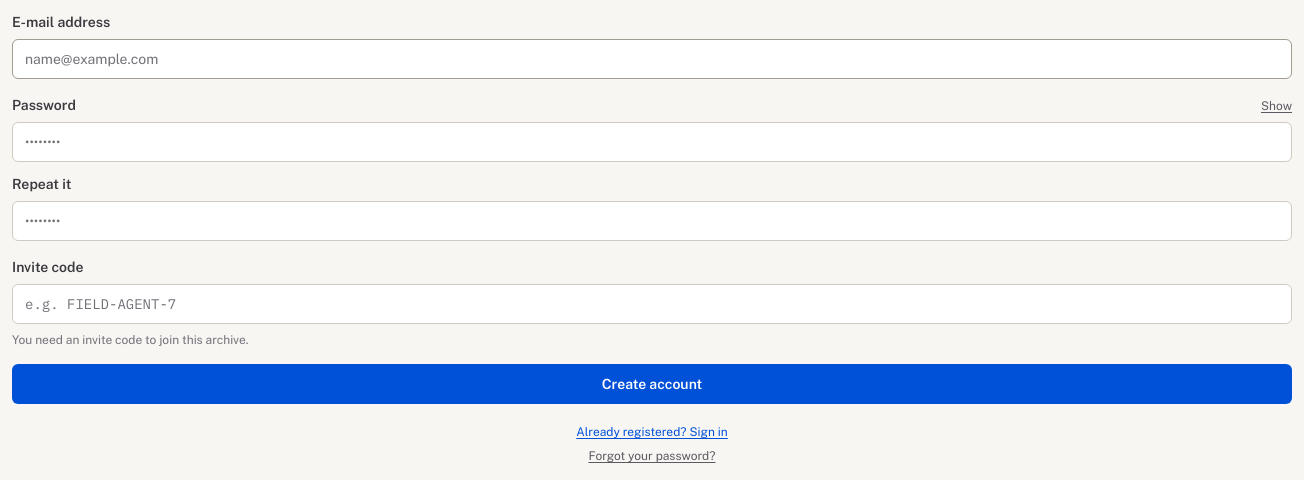
it: authentication and previews › stops asking twice once the password is on screen
This screenshot has width=1304, height=480.
Expected: the password field labelled "Repeat it" is shown, [12,201,1292,241]
Step 1. Click the button "Show" → {"x": 1276, "y": 106}, box [1261,98,1292,114]
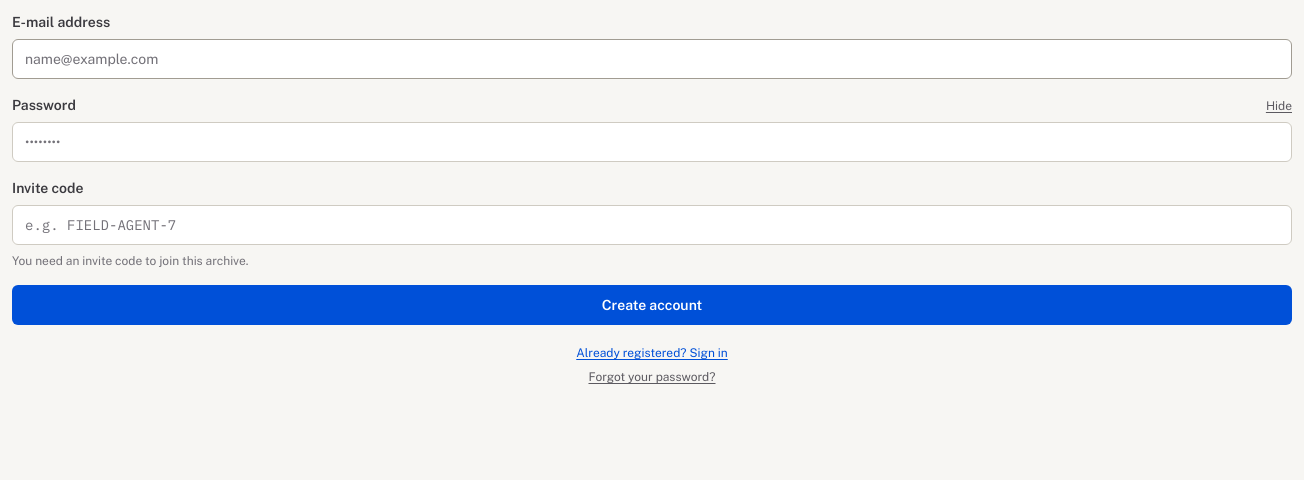
Result: the label labelled "Repeat it" is gone
